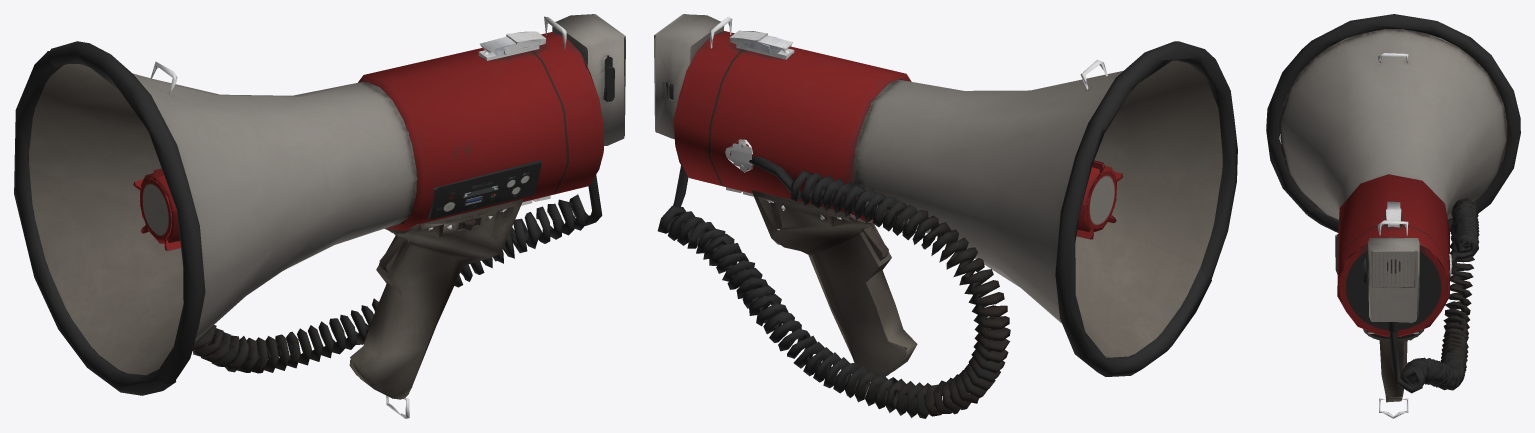
The model's file is megaphone.glb.
3 renders of one model, left to right at view 1: azimuth 30°, elevation 25°; view 2: azimuth 150°, elevation 25°; view 3: azimuth 270°, elevation 25°, orthographic. The views are drawn at different scales.
Visible parts, largest first — view 1: Megaphone_01; view 2: Megaphone_01; view 3: Megaphone_01.
Boxes of the visible parts, x1,y1,x2,y2 form: Megaphone_01: (14,14,625,418); Megaphone_01: (654,14,1237,418); Megaphone_01: (1266,14,1520,418).
Bounding box in the file's own units: 1.48 × 1.2 × 0.913.
Materials: 1 (1 with a texture image).
